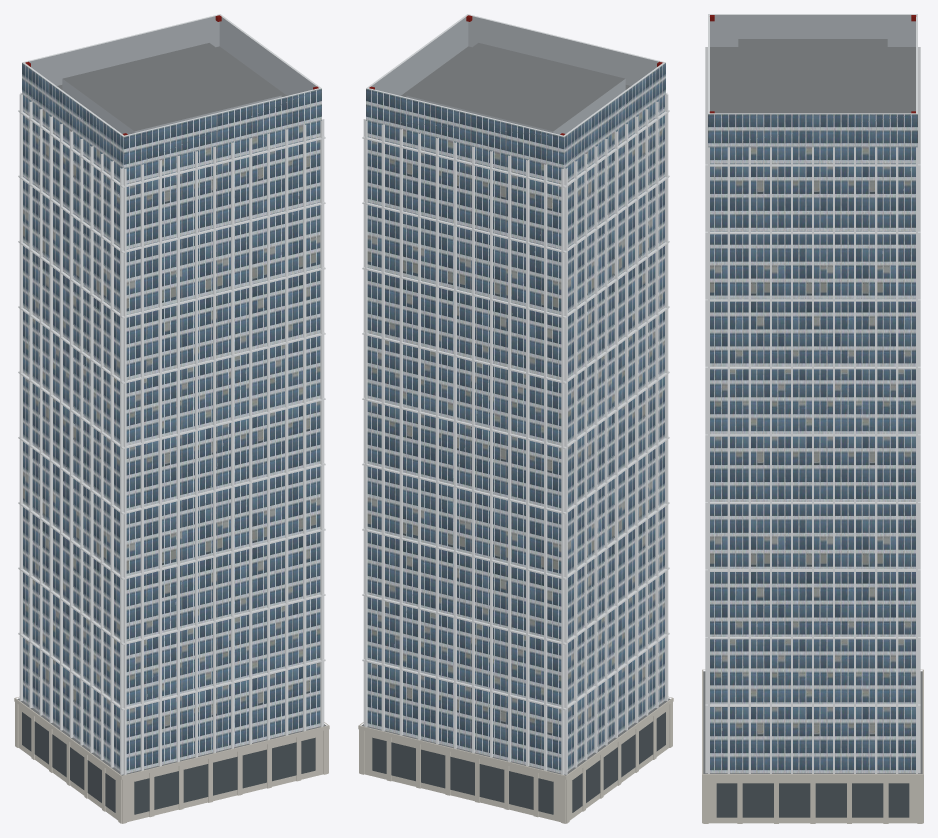
File: kasumigaseki_common_gate.glb
The picture shows the model from 3 angles, left to right: view 1: azimuth 30°, elevation 25°; view 2: azimuth 150°, elevation 25°; view 3: azimuth 270°, elevation 25°; orthographic projection. The views are drawn at different scales.
Parts seen in each view (by area): view 1: kasumigaseki_common_gate; view 2: kasumigaseki_common_gate; view 3: kasumigaseki_common_gate.
Part boxes in pixels (bbox=[...]): kasumigaseki_common_gate: bbox=[14, 14, 329, 823]; kasumigaseki_common_gate: bbox=[358, 14, 673, 823]; kasumigaseki_common_gate: bbox=[702, 14, 923, 823].
Bounding box in the file's own units: 56 × 176 × 50.
Materials: 2 (2 with a texture image).
